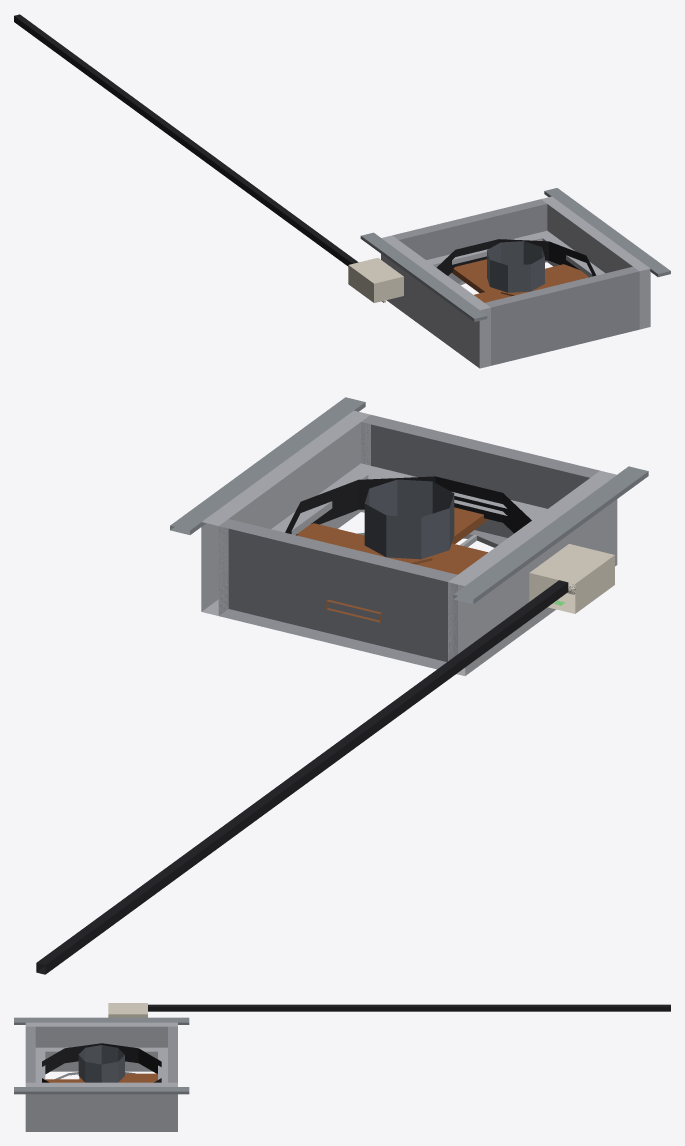
File: c_exhaust.obj
3 renders of one model, top to bottom at view 1: azimuth 30°, elevation 25°; view 2: azimuth 150°, elevation 25°; view 3: azimuth 270°, elevation 25°, orthographic. The views are drawn at different scales.
Bounding box in the file's own units: 0.6345 × 0.15 × 1.99.
Materials: 1 (1 with a texture image).
